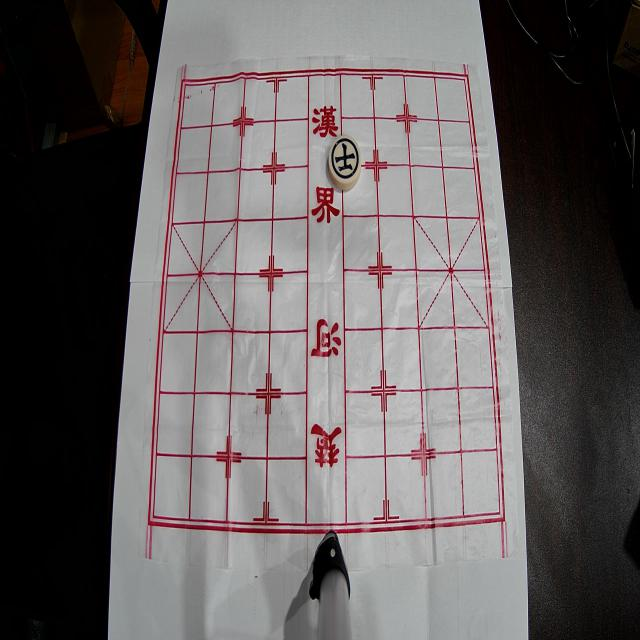black-guard: (329, 135, 361, 190)
